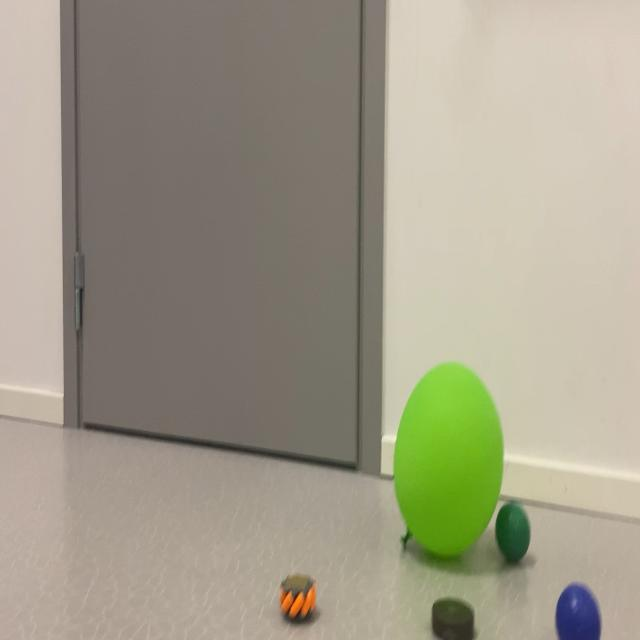green ball: (539, 574, 611, 640)
red ball: (495, 498, 533, 573)
